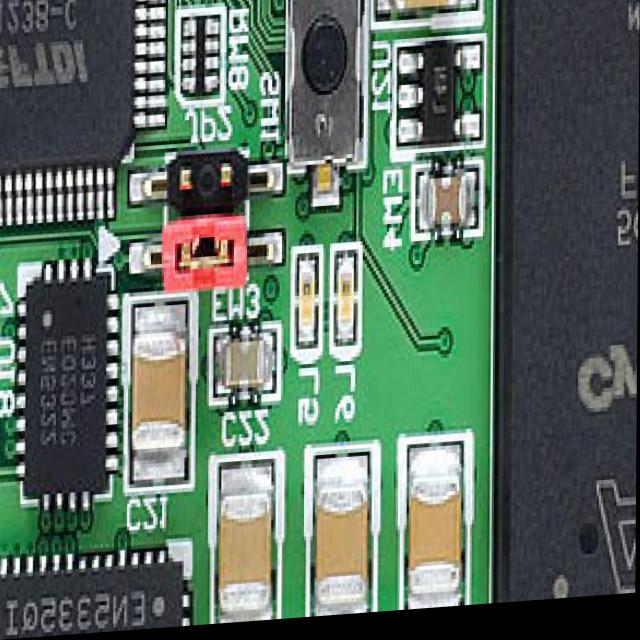IC: (486, 0, 640, 612), (0, 0, 166, 234), (19, 277, 112, 508), (0, 564, 185, 640), (392, 48, 482, 165)
LED: (330, 255, 359, 364), (293, 253, 319, 370)
button: (283, 0, 362, 225)
capacitor: (124, 303, 192, 502), (401, 448, 467, 616), (307, 457, 373, 622), (213, 463, 277, 627), (369, 0, 476, 37)
component text: (564, 0, 640, 607), (0, 0, 92, 111), (35, 335, 99, 466), (0, 589, 152, 640)
connector: (123, 148, 288, 230)
emi filter: (409, 175, 481, 252), (209, 336, 277, 409)
jumper: (129, 221, 285, 307)
resistor: (177, 18, 221, 112)
